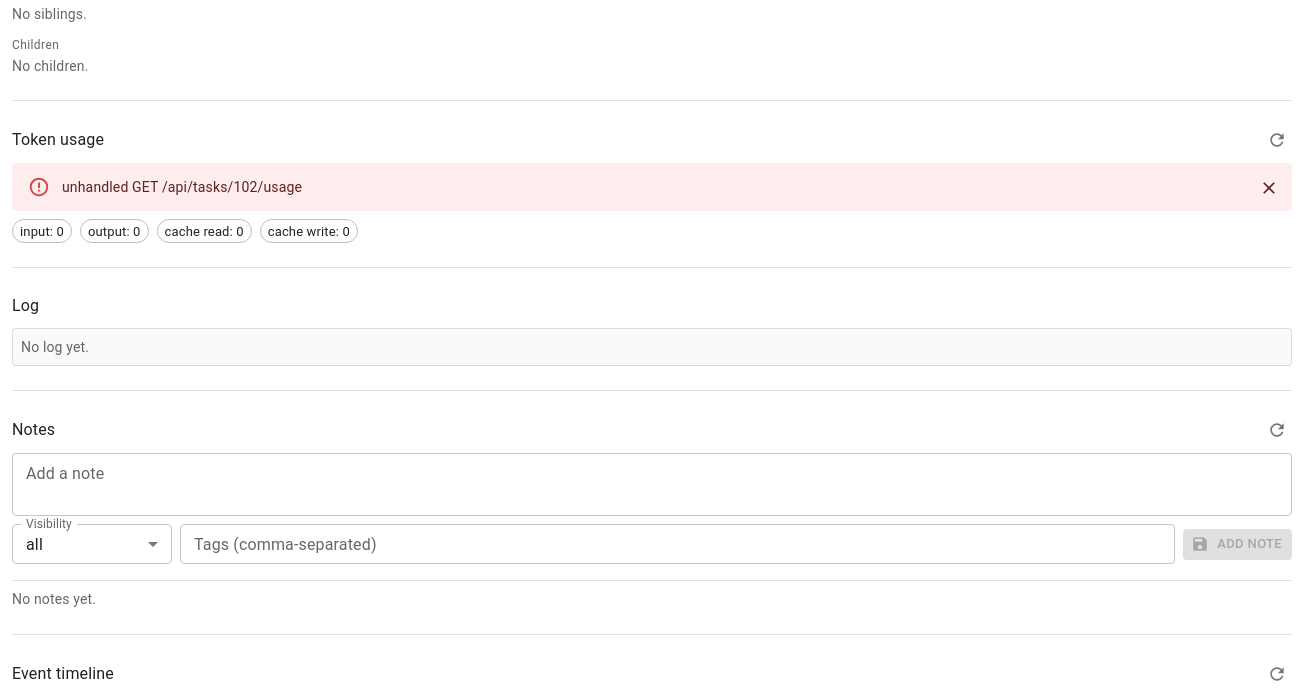
TaskDetailPage › submits an inline note and POSTs it to the notes endpoint
The image size is (1304, 699).
(page scrolled)
Expected: the text "No notes yet." is shown, [12,592,96,608]
In the text box named "Note content": (652, 485) [26,462,1278,508], type "A brand new note"
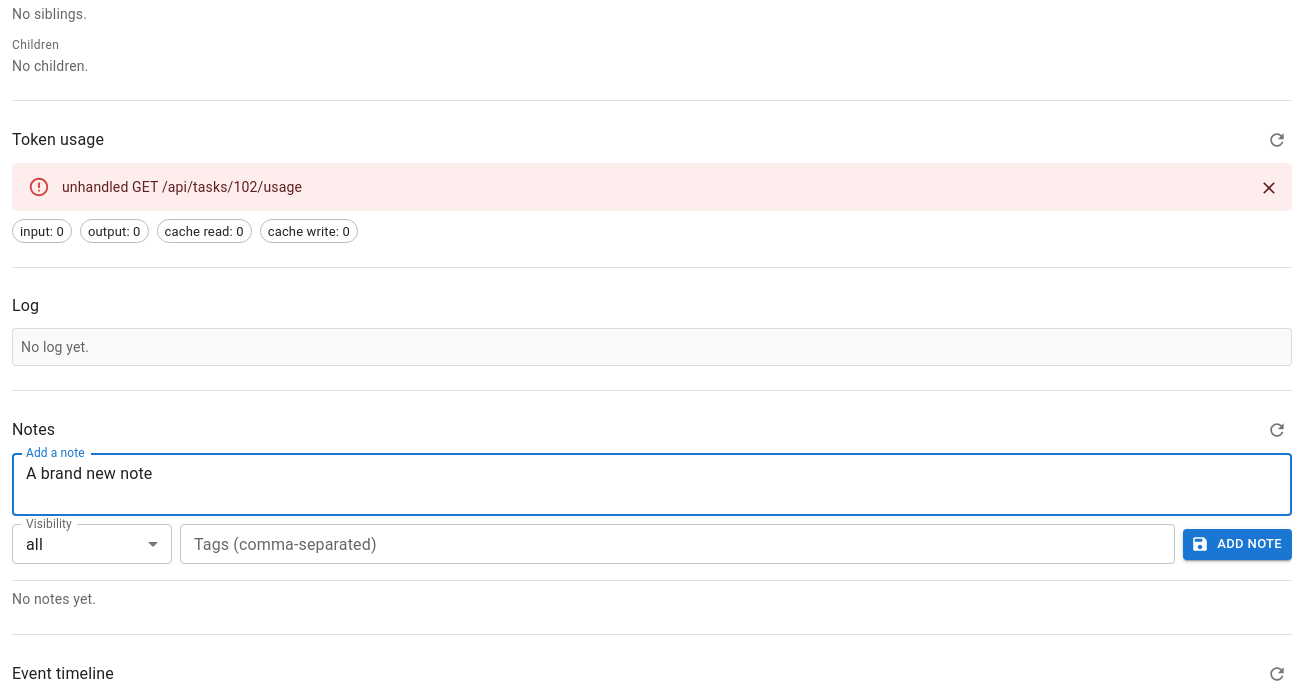
In the field named "Note tags": (678, 544) [180,524,1175,564], type "alpha, beta"
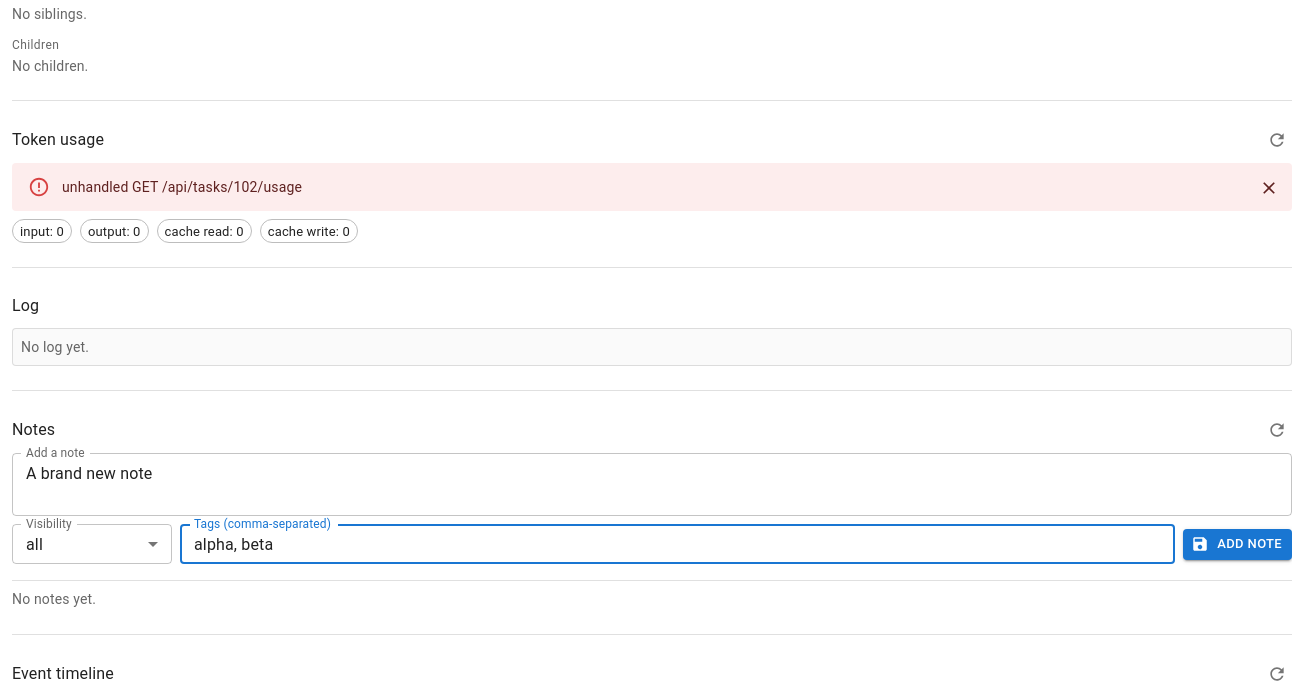
Click the button "Add note": (1238, 544) [1183,529,1292,560]
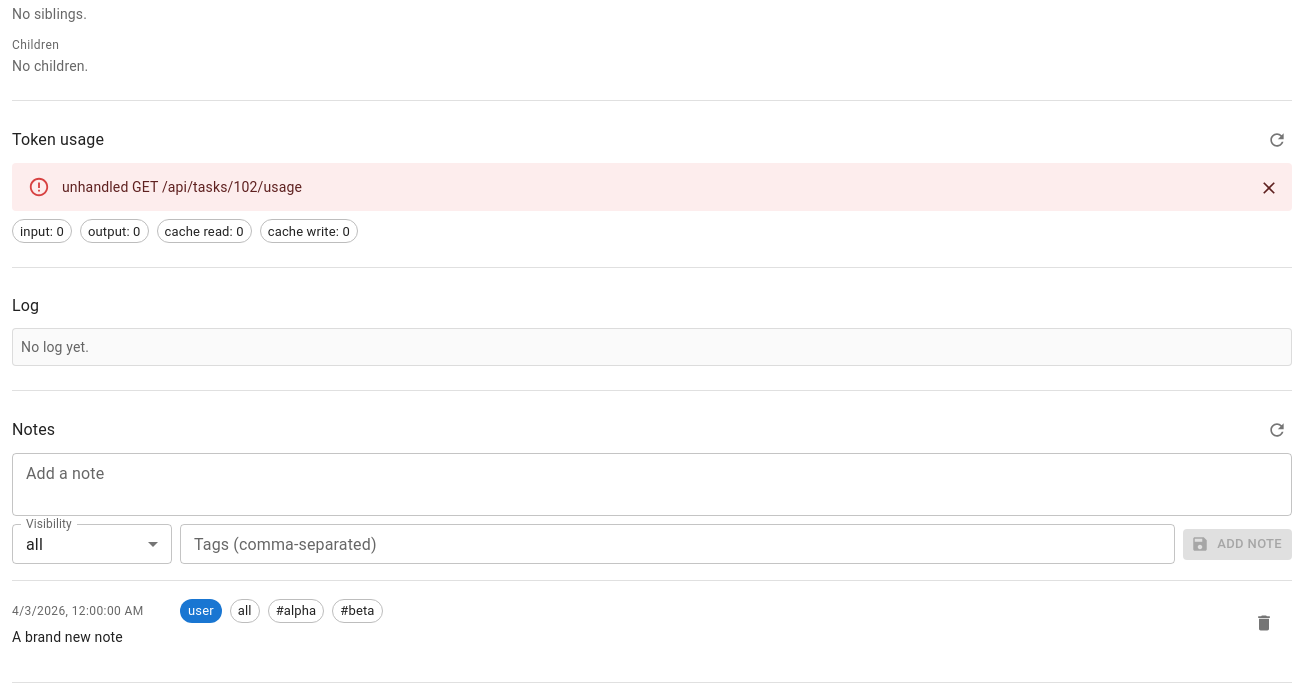
Result: the text "A brand new note" is shown at [12,630,123,646]
Result: the text box named "Note content" is empty at [26,462,1278,508]
Result: the field named "Note tags" is empty at [180,524,1175,564]
